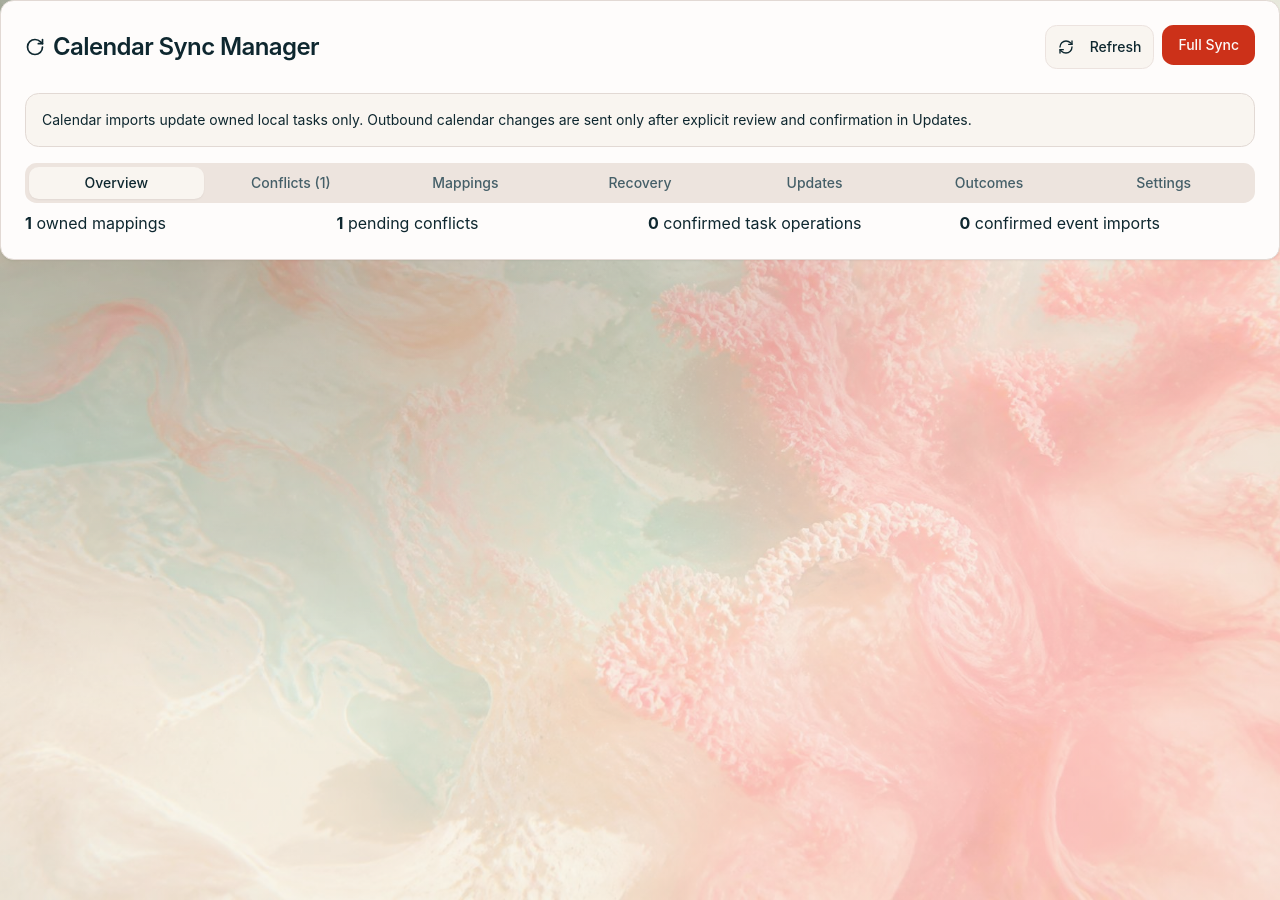
CalendarSyncPanel owner and truthful outcome lifecycle › renders actual confirmed counts and labels mixed errors/review as incomplete rather than Sync Complete
The width and height of the screenshot is (1280, 900).
Step 1. Click the button "Full Sync" → (1209, 45), box [1162,25,1255,65]
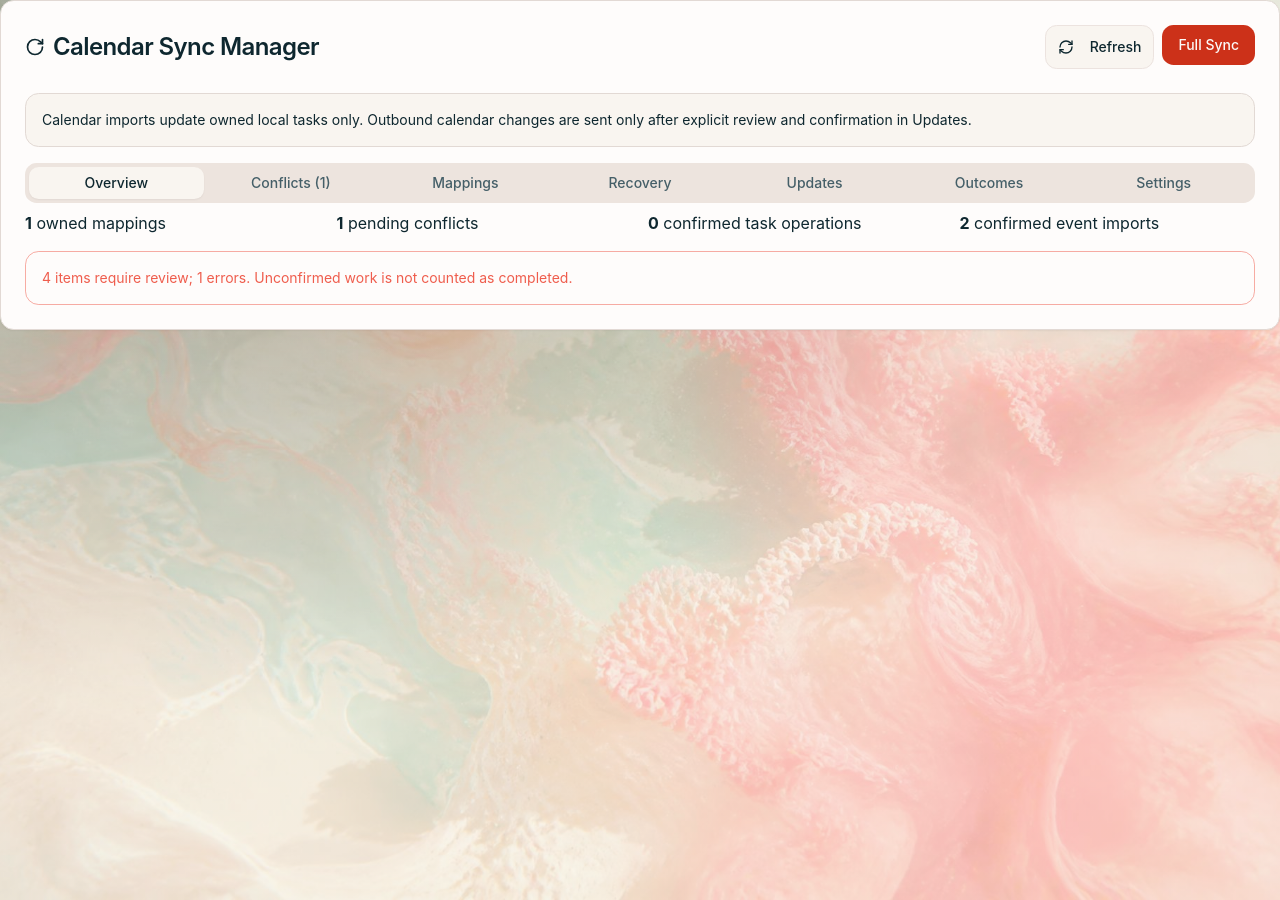
Expected: the text "4 items require review; 1 errors" is shown, [42,269,572,286]
